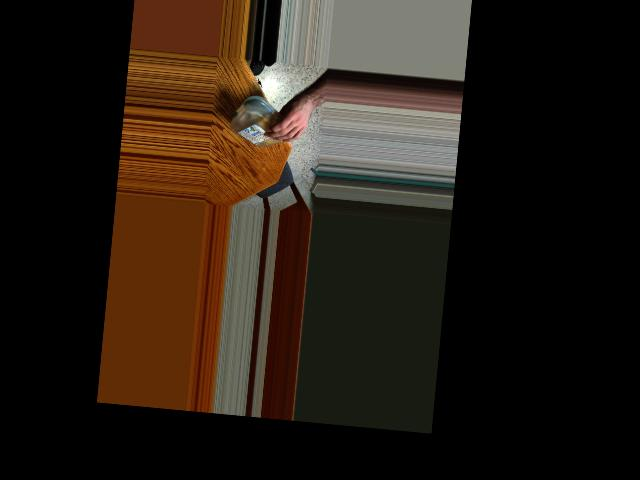cheese: (226, 94, 296, 153)
